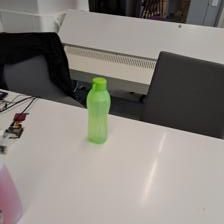bottle: (86, 73, 113, 140)
